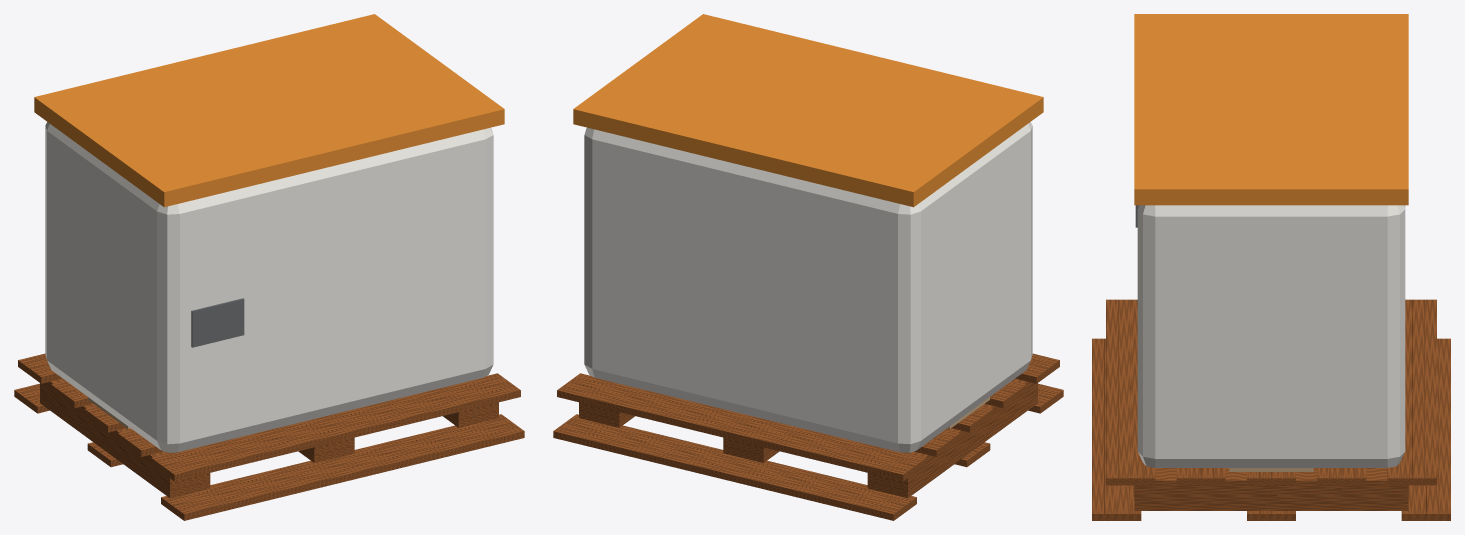
The model's file is self-storage-facility-and-loading-bay-self-storage-fac-7e99dbd0__34718.glb.
3 views of the same model, side by side, from view 1: azimuth 30°, elevation 25°; view 2: azimuth 150°, elevation 25°; view 3: azimuth 270°, elevation 25° (orthographic). The views are drawn at different scales.
Visible parts, largest first — view 1: self-storage-facility-and-loading-bay-shrink-wrapped-pallet_ (×4); view 2: self-storage-facility-and-loading-bay-shrink-wrapped-pallet_ (×3); view 3: self-storage-facility-and-loading-bay-shrink-wrapped-pallet_ (×3).
Boxes of the visible parts, box(x1,y1,x2,y2) form: self-storage-facility-and-loading-bay-shrink-wrapped-pallet_ (×4): box(14, 14, 524, 520); self-storage-facility-and-loading-bay-shrink-wrapped-pallet_ (×3): box(553, 14, 1063, 520); self-storage-facility-and-loading-bay-shrink-wrapped-pallet_ (×3): box(1092, 14, 1450, 520).
Bounding box in the file's own units: 1.2 × 1.04 × 1.02.
5 materials, 1 textured.
